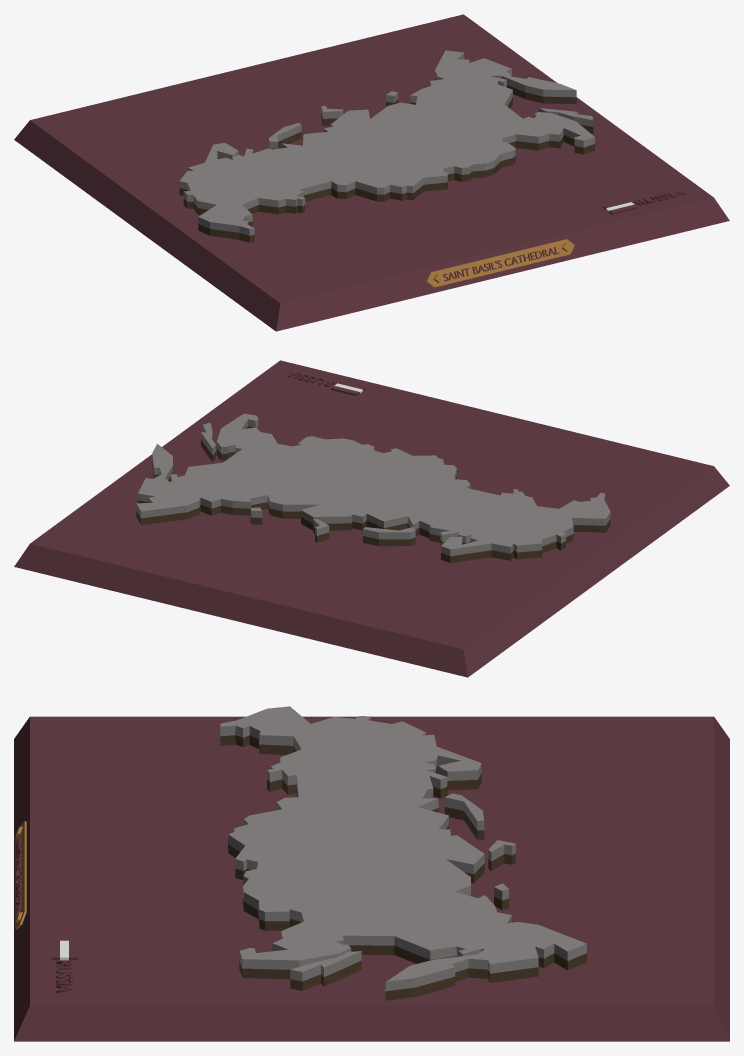
Rendered from SM_Island_Cathedral_Moscow_Landmark.fbx.
The picture shows the model from 3 angles, top to bottom: view 1: azimuth 30°, elevation 25°; view 2: azimuth 150°, elevation 25°; view 3: azimuth 270°, elevation 25°; orthographic projection. The views are drawn at different scales.
Parts seen in each view (by area): view 1: Island_Cathedral_Moscow_Landmark; view 2: Island_Cathedral_Moscow_Landmark; view 3: Island_Cathedral_Moscow_Landmark.
Part boxes in pixels (<box>): Island_Cathedral_Moscow_Landmark: <box>14,14,729,331</box>; Island_Cathedral_Moscow_Landmark: <box>14,360,729,677</box>; Island_Cathedral_Moscow_Landmark: <box>14,706,729,1041</box>.
Bounding box in the file's own units: 68.5 × 5.09 × 68.5.
